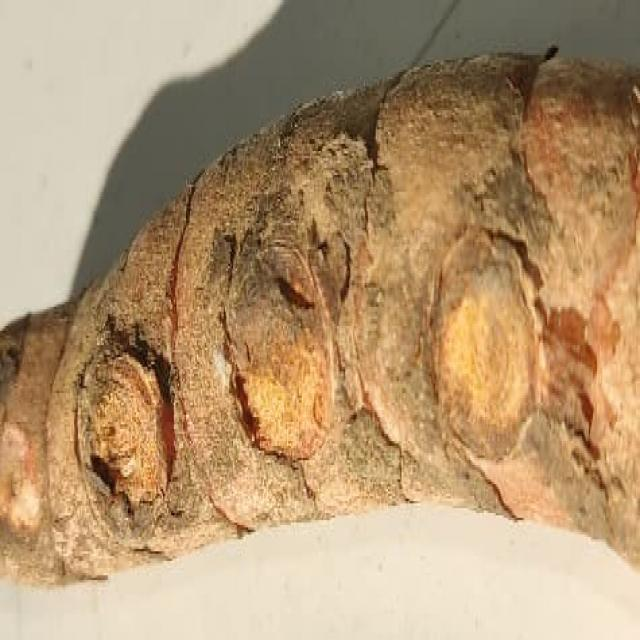ginger: (34, 74, 628, 544)
